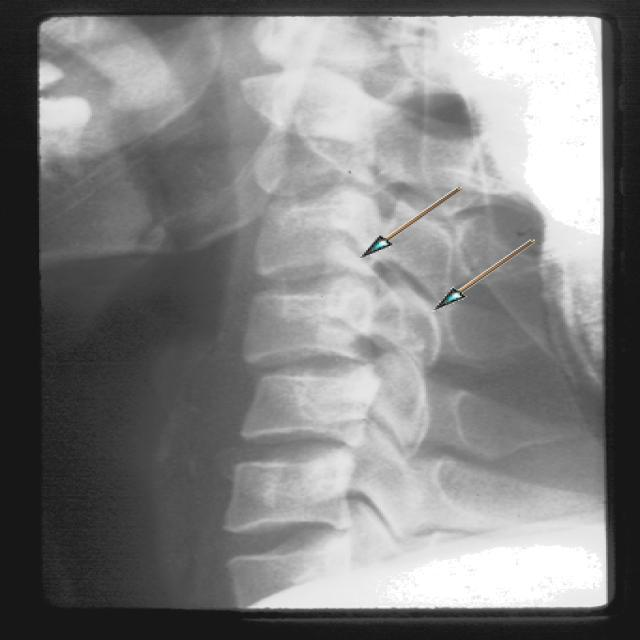Fracture Dislocation: (378, 280, 444, 355), (330, 234, 375, 279)
